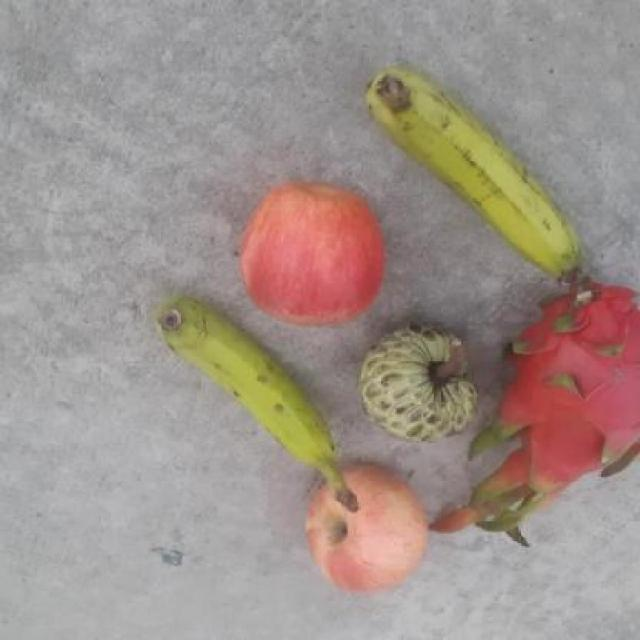apple: (237, 174, 391, 328), (302, 461, 432, 596)
banana: (361, 65, 590, 288), (148, 297, 363, 517)
dragon fruit: (489, 272, 640, 500)
sugar apple: (359, 316, 484, 444)
